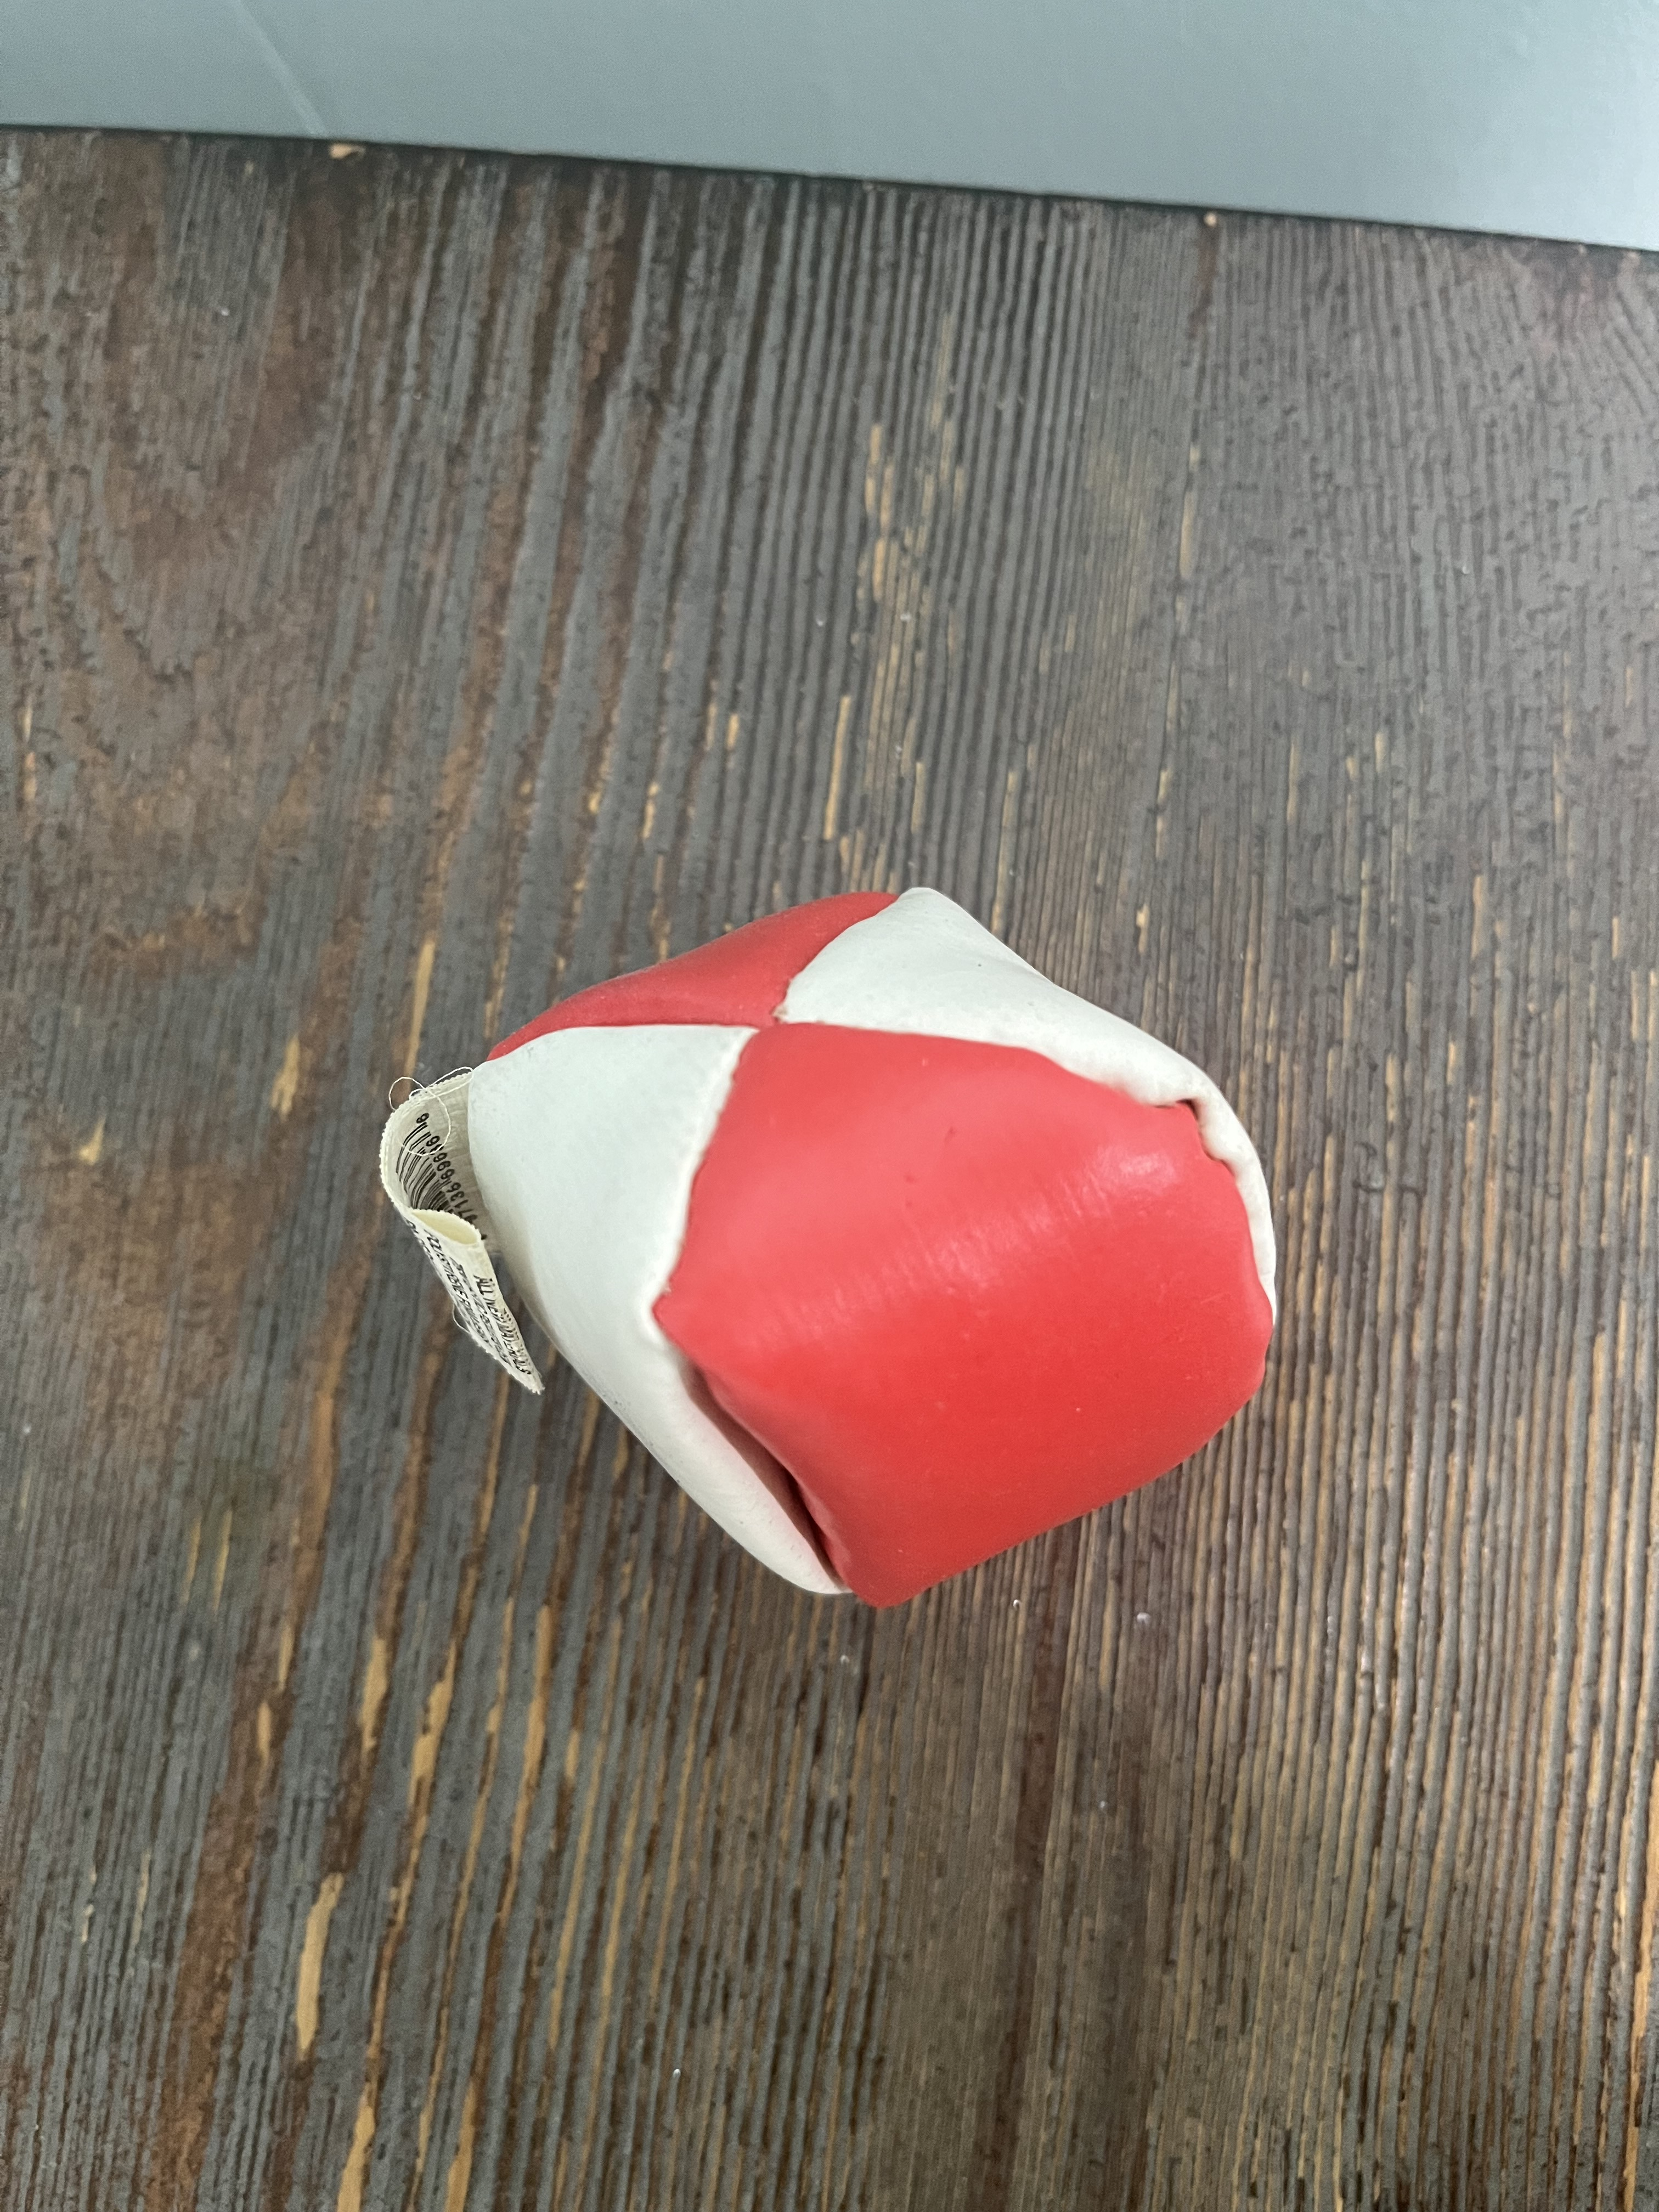regular trash: (380, 888, 1286, 1613)
